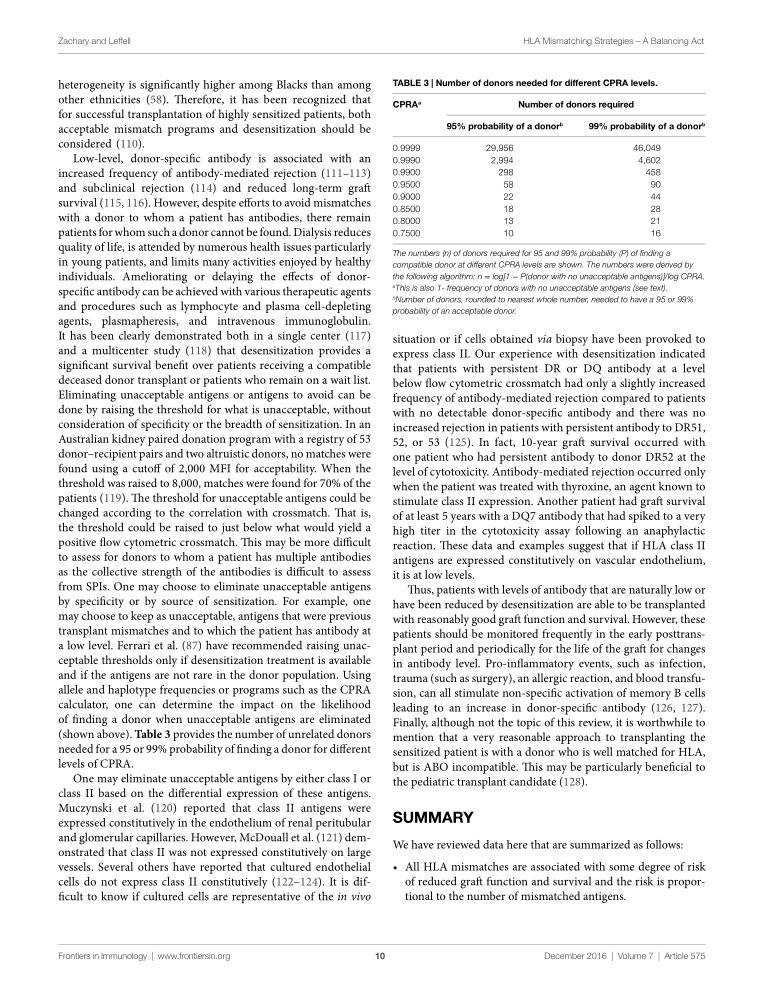table: (392, 98, 704, 238)
